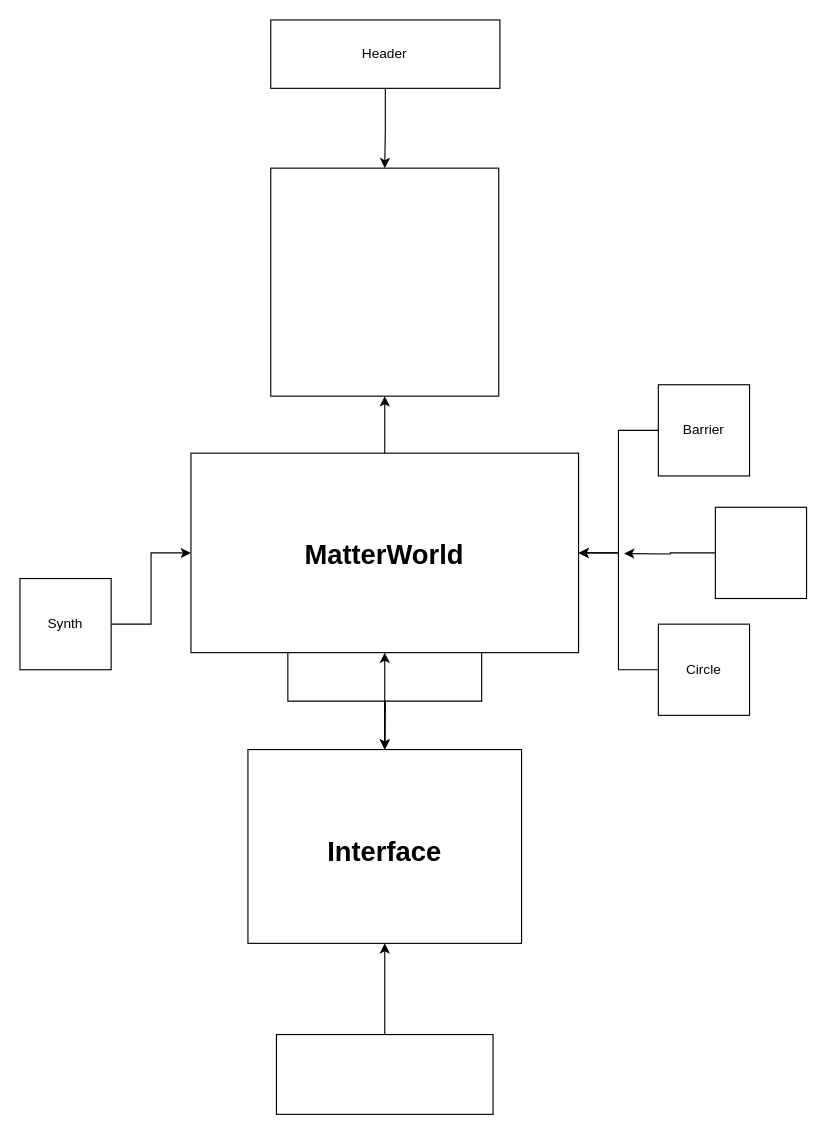
The diagram is 827 pixels wide and 1134 high, and some of its shapes have lost their labels. The shapes that lost their labels are listed below. From the top down, each one's centre as x and y in pixels, then its label:
pixel 384 281: App
pixel 760 552: Generator
pixel 384 1073: Fader
